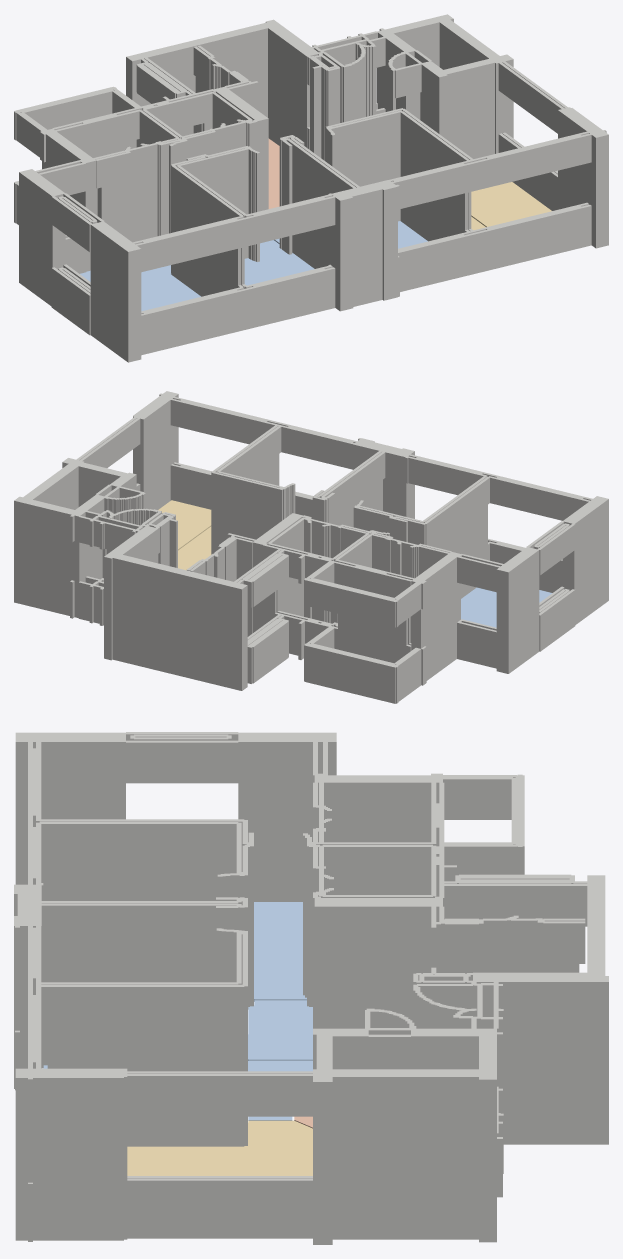
3 views of the same model, one above another, from view 1: azimuth 30°, elevation 25°; view 2: azimuth 150°, elevation 25°; view 3: azimuth 270°, elevation 25° (orthographic). The views are drawn at different scales.
Parts seen in each view (by area): view 1: walls, room:living:3, room:bedroom:5, room:bedroom:4, room:kitchen:9, room:bedroom:1; view 2: walls, room:living:3, room:bedroom:5, room:living:2; view 3: walls, room:living:2, room:bedroom:5, room:bedroom:4, room:bedroom:1.
Part boxes in pixels (<box>): walls: <box>14,14,608,362</box>; room:living:3: <box>471,182,551,227</box>; room:bedroom:5: <box>80,265,200,311</box>; room:bedroom:4: <box>244,240,314,285</box>; room:kitchen:9: <box>268,138,279,208</box>; room:bedroom:1: <box>274,221,427,248</box>; walls: <box>14,391,608,703</box>; room:living:3: <box>158,500,211,550</box>; room:bedroom:5: <box>461,587,552,627</box>; room:living:2: <box>178,526,211,570</box>; walls: <box>14,732,608,1244</box>; room:living:2: <box>127,1120,312,1175</box>; room:bedroom:5: <box>254,902,306,1001</box>; room:bedroom:4: <box>248,1000,312,1060</box>; room:bedroom:1: <box>43,1060,312,1120</box>.
Bounding box in the file's own units: 12.91 × 2.8 × 9.28.
